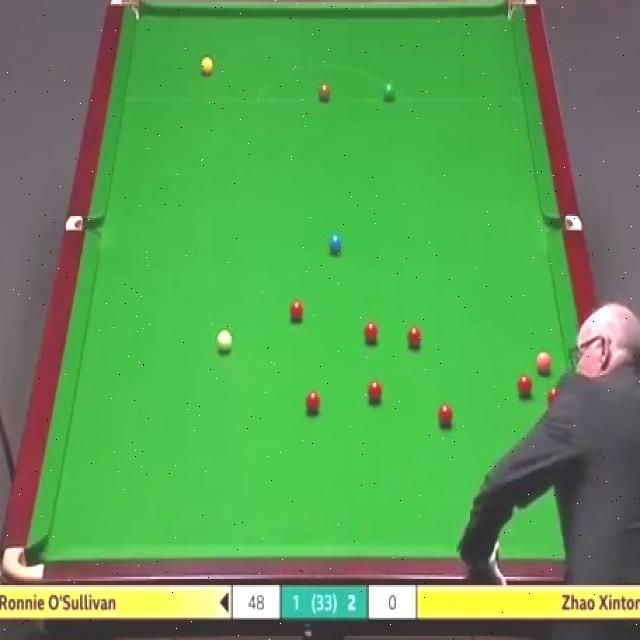blue-ball: (329, 233, 342, 256)
brown-ball: (319, 84, 331, 102)
green-ball: (384, 82, 395, 102)
pink-ball: (536, 350, 553, 376)
red-ball: (546, 384, 564, 410), (436, 403, 454, 428), (407, 323, 423, 348), (363, 321, 378, 345), (368, 380, 383, 404), (517, 375, 533, 396), (305, 390, 321, 411), (290, 298, 304, 320)
white-ball: (215, 328, 232, 357)
yellow-ball: (200, 57, 215, 78)
